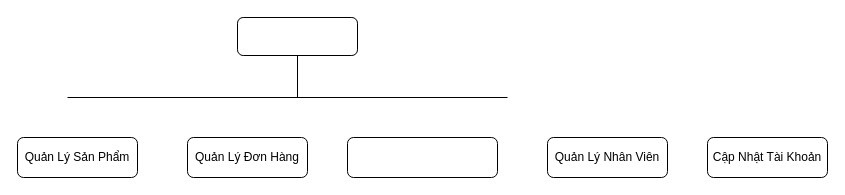
This 845x195 diagram has some shape labels left out. The centre of each missing label's shape, as x and y in pixels:
"Hệ Thống Quản Lý" goes at pixel 297 36.
"Quản Lý Cơ Sở Dữ Liệu" goes at pixel 422 157.
